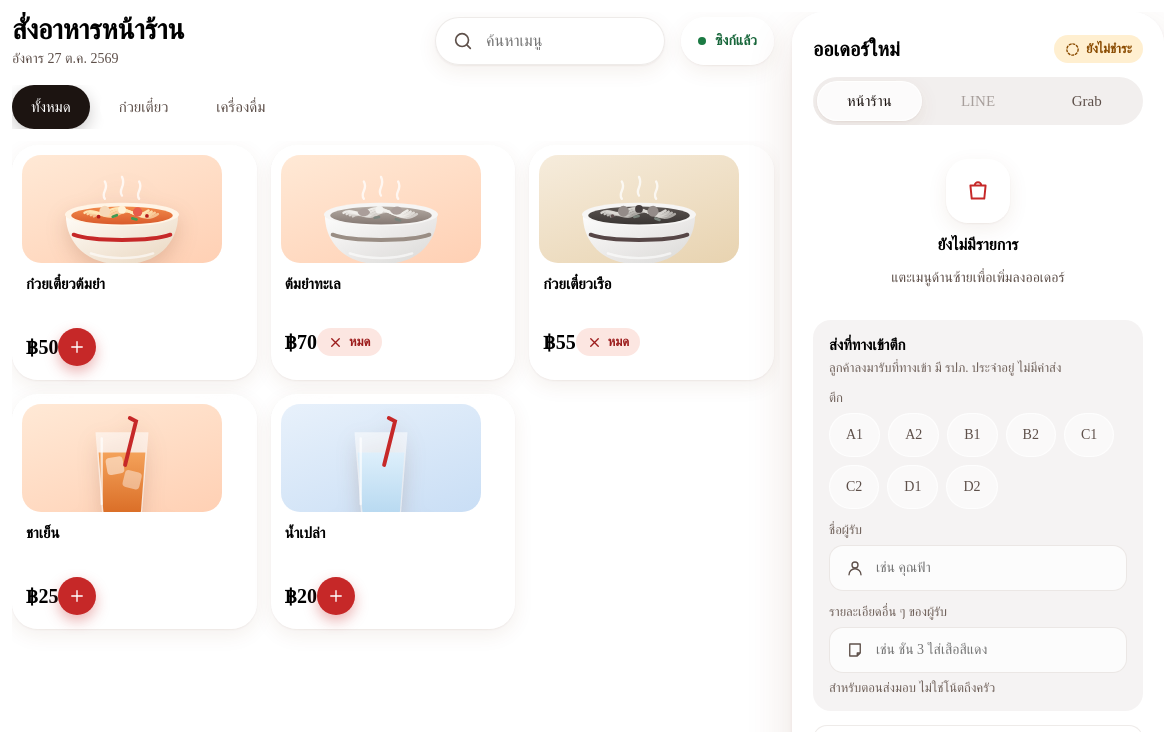
Test: the menu › a category chip narrows the grid, "all" brings everything back
The width and height of the screenshot is (1164, 732).
Click the button "เครื่องดื่ม": coordinates (241, 107) top-left (197, 85), bottom-right (284, 129)
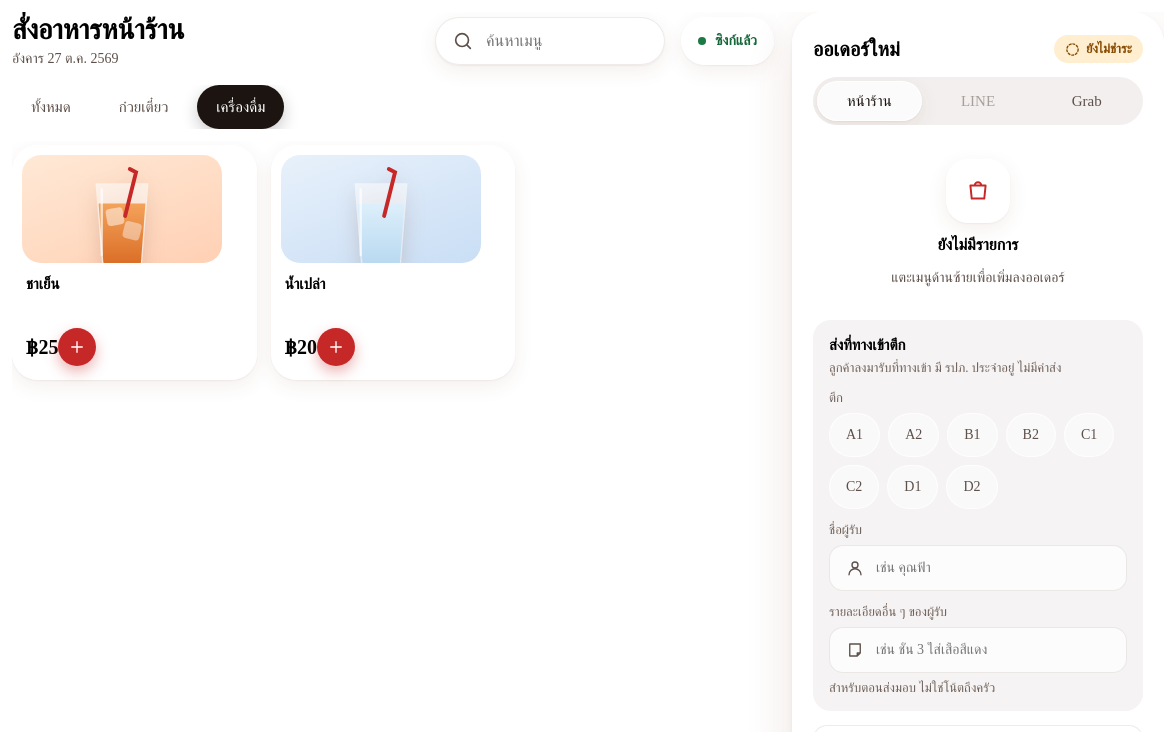
Expected: the text "ชาเย็น" is shown, top-left (26, 276), bottom-right (60, 292)
Result: the button "ก๋วยเตี๋ยวต้มยำ" is gone
Click the button "ทั้งหมด": coordinates (51, 107) top-left (12, 85), bottom-right (90, 129)
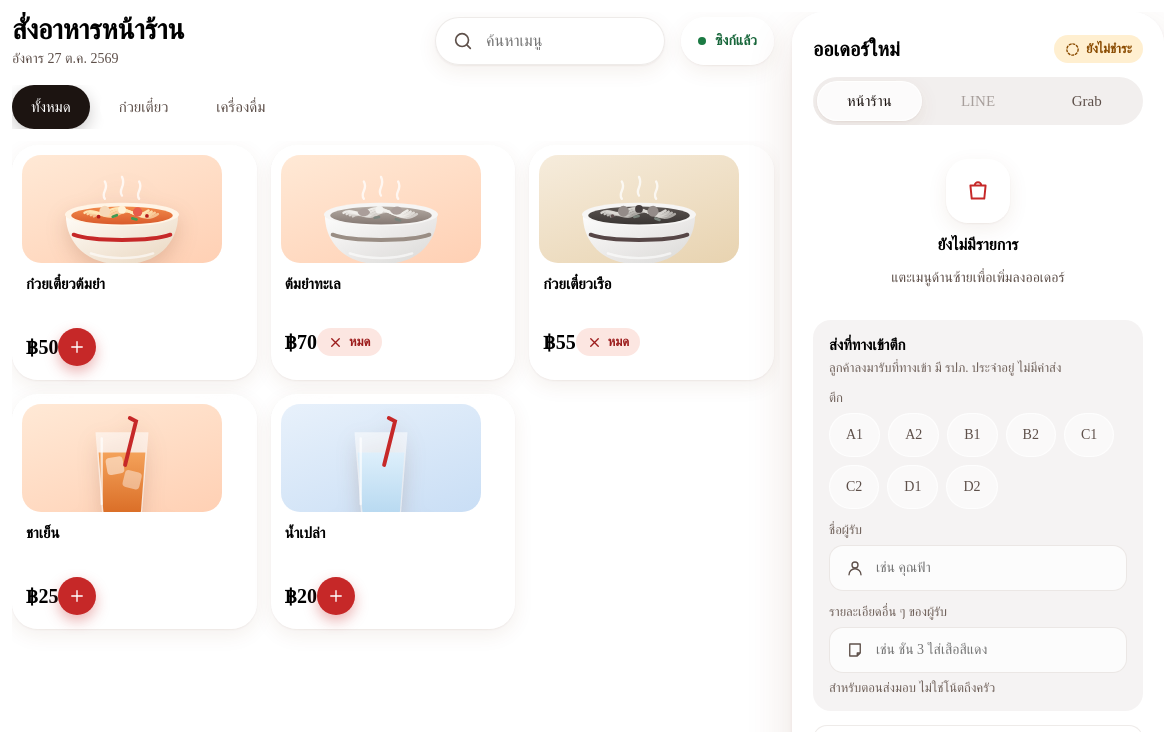
Result: the text "ก๋วยเตี๋ยวต้มยำ" is shown at top-left (26, 276), bottom-right (105, 292)
